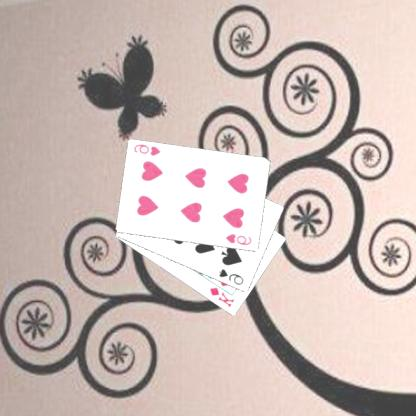6H: (225, 231, 255, 247), (133, 141, 163, 157)
9S: (217, 266, 247, 287)
KD: (209, 285, 238, 308)
